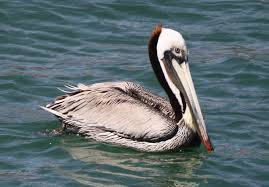pelican: (40, 27, 213, 152)
